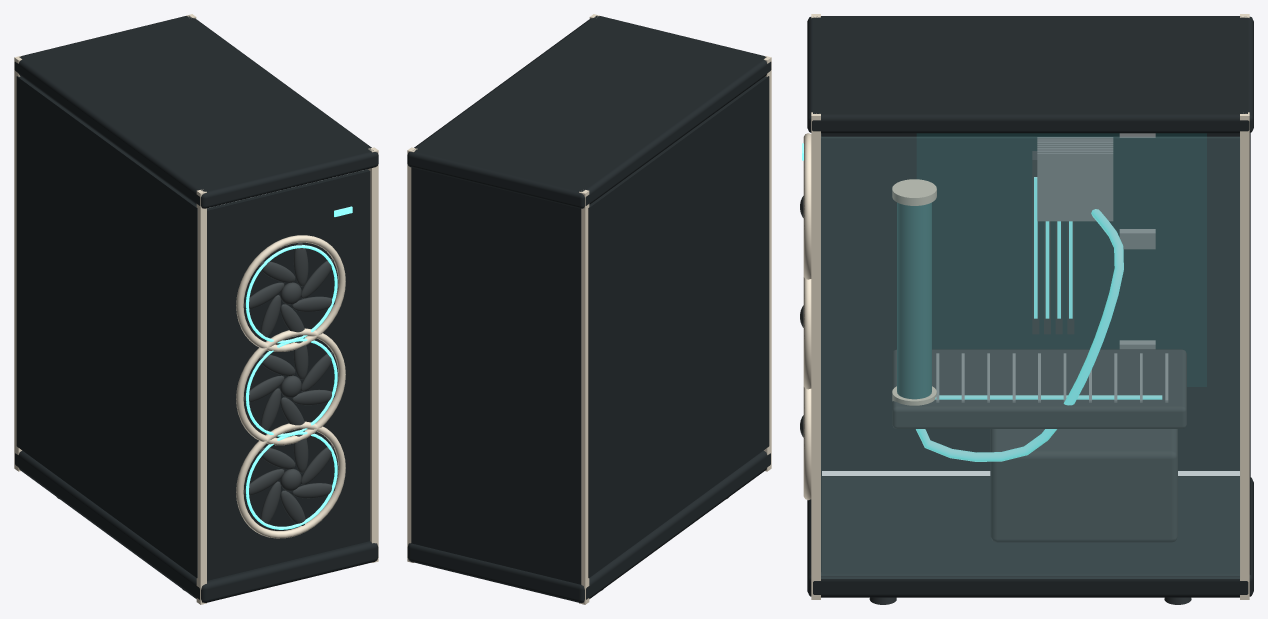
The model's file is pc_case_liquid_spine-1419cb55fe39.glb.
The picture shows the model from 3 angles, left to right: view 1: azimuth 30°, elevation 25°; view 2: azimuth 150°, elevation 25°; view 3: azimuth 270°, elevation 25°; orthographic projection. The views are drawn at different scales.
Parts seen in each view (by area): view 1: surface_ink, surface_chalk, surface_graphite, surface_cyan; view 2: surface_ink, surface_chalk; view 3: surface_Optical_smoke, surface_ink, surface_deep, surface_graphite, surface_chalk, surface_steel, surface_lagoon, surface_cyan.
Part boxes in pixels (box(x1,y1,x2,y2)): surface_ink: box(14, 15, 378, 602); surface_chalk: box(14, 14, 378, 604); surface_graphite: box(243, 242, 335, 527); surface_cyan: box(246, 206, 352, 529); surface_ink: box(407, 15, 771, 602); surface_chalk: box(407, 14, 771, 604); surface_Optical_smoke: box(821, 137, 1239, 578); surface_ink: box(807, 16, 1253, 597); surface_deep: box(916, 133, 1206, 386); surface_graphite: box(800, 151, 1186, 542); surface_chalk: box(803, 14, 1249, 599); surface_steel: box(936, 133, 1168, 402); surface_lagoon: box(897, 202, 931, 399); surface_cyan: box(802, 143, 1162, 461).
Bounding box in the file's own units: 0.2512 × 0.564 × 0.4674.
